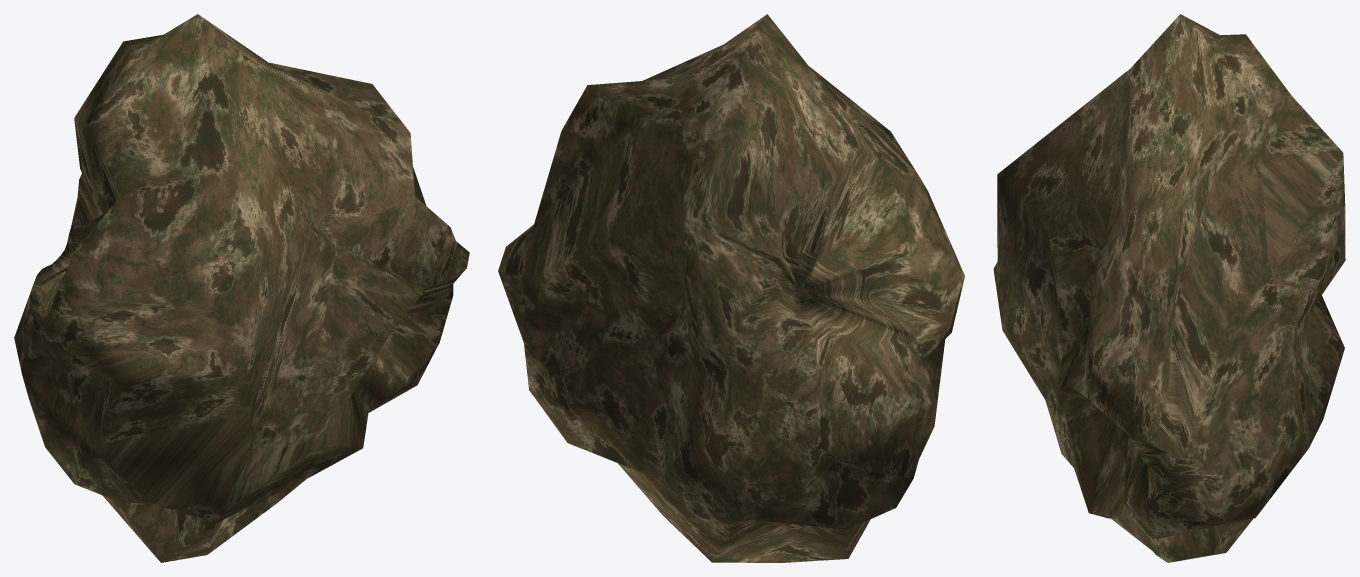
Rendered from asteroid.obj.
3 renders of one model, left to right at view 1: azimuth 30°, elevation 25°; view 2: azimuth 150°, elevation 25°; view 3: azimuth 270°, elevation 25°, orthographic. The views are drawn at different scales.
Visible parts, largest first — view 1: asteroid_1; view 2: asteroid_1; view 3: asteroid_1.
Part boxes in pixels (bbox=[...]): asteroid_1: bbox=[14, 14, 469, 562]; asteroid_1: bbox=[498, 14, 964, 562]; asteroid_1: bbox=[993, 14, 1345, 562].
Bounding box in the file's own units: 3.23 × 3.83 × 2.25.
1 material, 1 textured.
